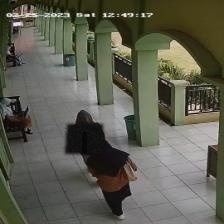Cadar_Niqab: (65, 109, 104, 153)
